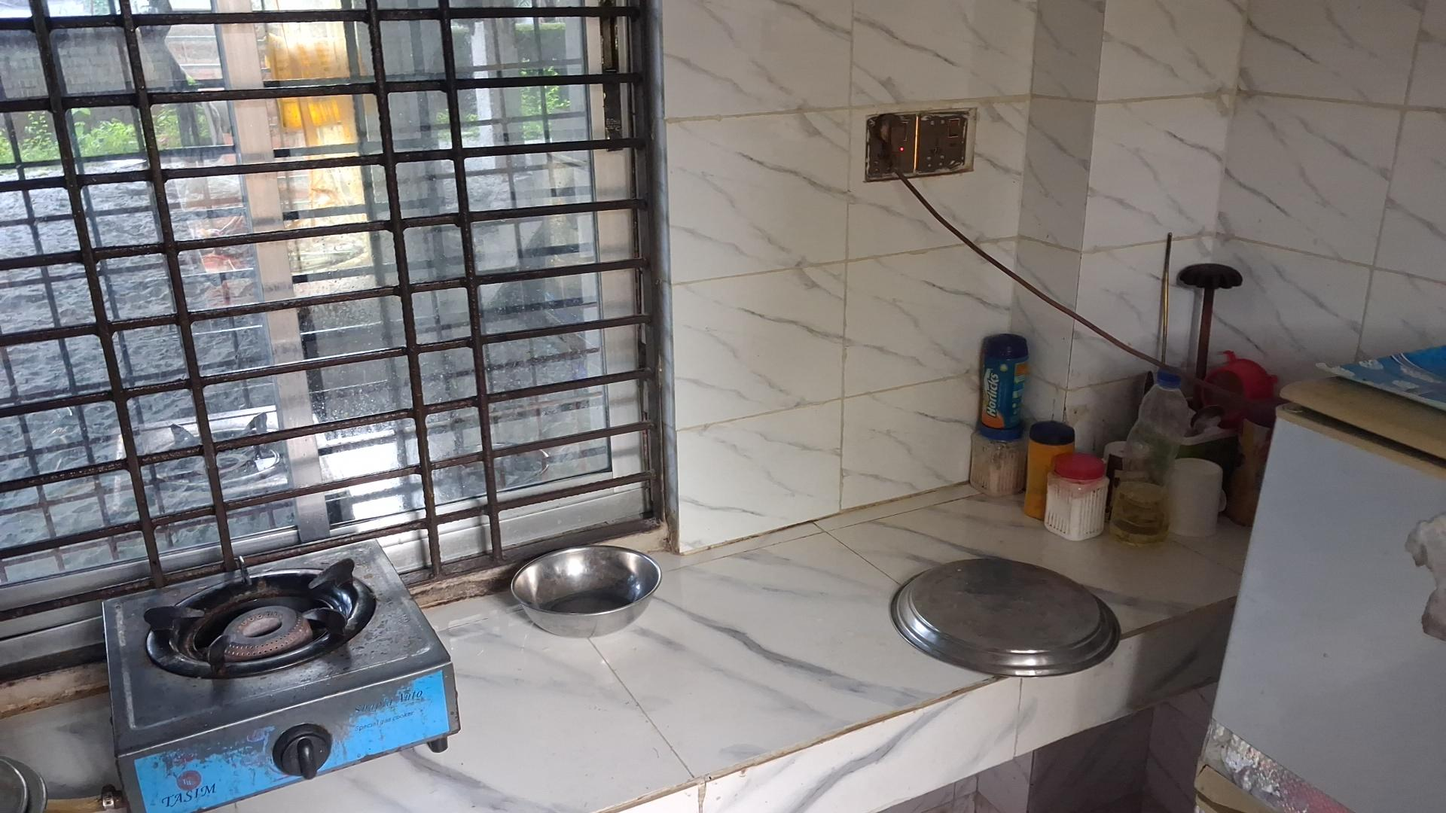Bowl: (510, 543, 662, 639)
Cup: (1165, 458, 1224, 538)
Jar: (972, 335, 1035, 433), (1042, 451, 1109, 540), (1023, 420, 1076, 519), (962, 428, 1023, 499)
Plate: (888, 559, 1122, 675)
